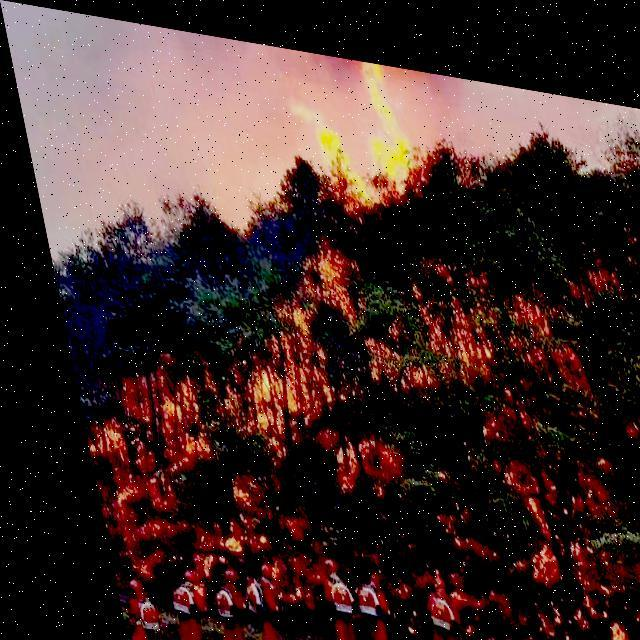Fire: (37, 140, 639, 639), (299, 70, 422, 188)
